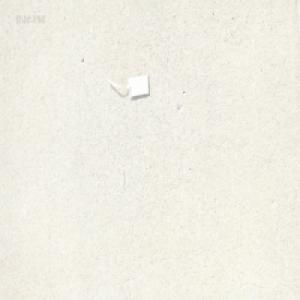LuggageTag: (105, 71, 151, 100)
